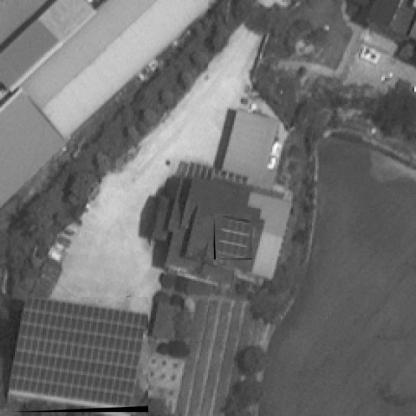solar-pv-panel: (10, 297, 148, 408), (216, 214, 252, 259)
